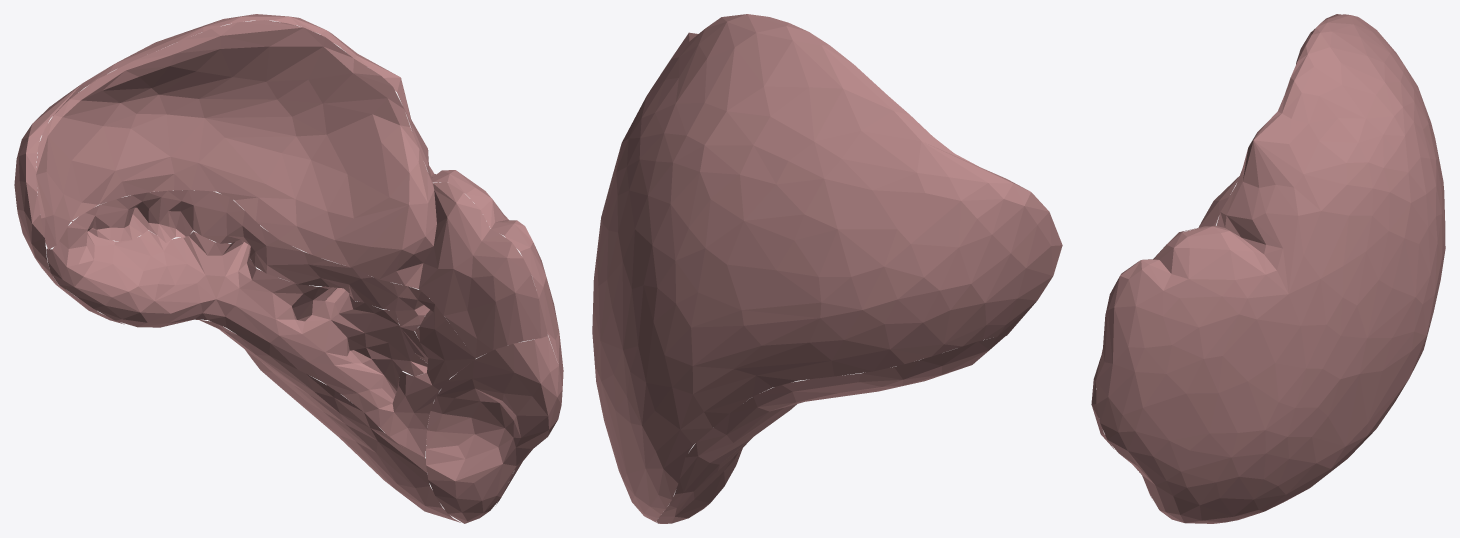
Rendered from VH_M_Spleen_0.1.glb.
The picture shows the model from 3 angles, left to right: view 1: azimuth 30°, elevation 25°; view 2: azimuth 150°, elevation 25°; view 3: azimuth 270°, elevation 25°; orthographic projection. The views are drawn at different scales.
Visible parts, largest first — view 1: VH_M_gastric_surface_of_spleen, VH_M_hilum_of_spleen, VH_M_colic_surface_of_spleen, VH_M_diaphragmatic_surface_of_spleen, VH_M_renal_surface_of_spleen; view 2: VH_M_diaphragmatic_surface_of_spleen, VH_M_renal_surface_of_spleen; view 3: VH_M_diaphragmatic_surface_of_spleen, VH_M_gastric_surface_of_spleen.
Part boxes in pixels (box(x1,y1,x2,y2)): VH_M_gastric_surface_of_spleen: box(36, 20, 547, 358); VH_M_hilum_of_spleen: box(46, 190, 475, 457); VH_M_colic_surface_of_spleen: box(426, 336, 562, 523); VH_M_diaphragmatic_surface_of_spleen: box(14, 14, 563, 504); VH_M_renal_surface_of_spleen: box(51, 279, 460, 522); VH_M_diaphragmatic_surface_of_spleen: box(592, 14, 1062, 522); VH_M_renal_surface_of_spleen: box(657, 336, 1004, 523); VH_M_diaphragmatic_surface_of_spleen: box(1096, 14, 1445, 523); VH_M_gastric_surface_of_spleen: box(1153, 28, 1315, 259).
Size of the model in its own units: 0.1106 by 0.1188 by 0.0889.
